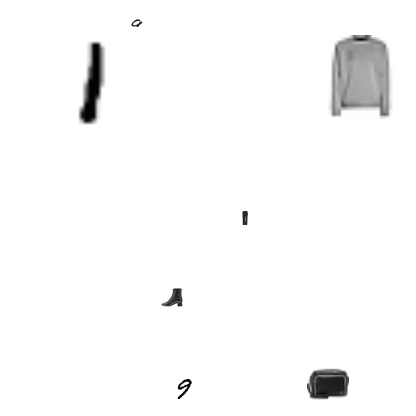1: (36, 27, 148, 139)
9: (170, 373, 198, 401), (125, 14, 147, 36)
Ankle_boot: (161, 286, 183, 308)
Bag: (307, 363, 349, 405)
Pullover: (317, 35, 401, 119)
Trouser: (238, 211, 252, 225)
